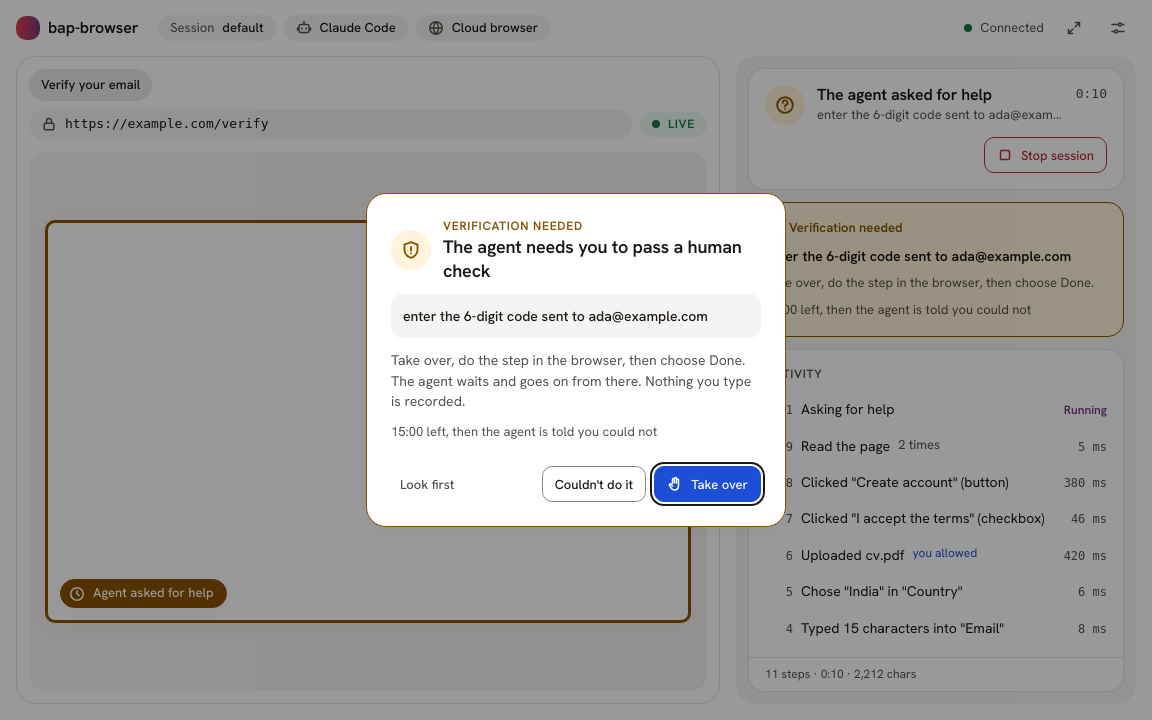
Scenario: controls › answering a request for help: take over, then Done
Click the button "Take over" at coordinates (708, 484), box [654, 466, 761, 502]
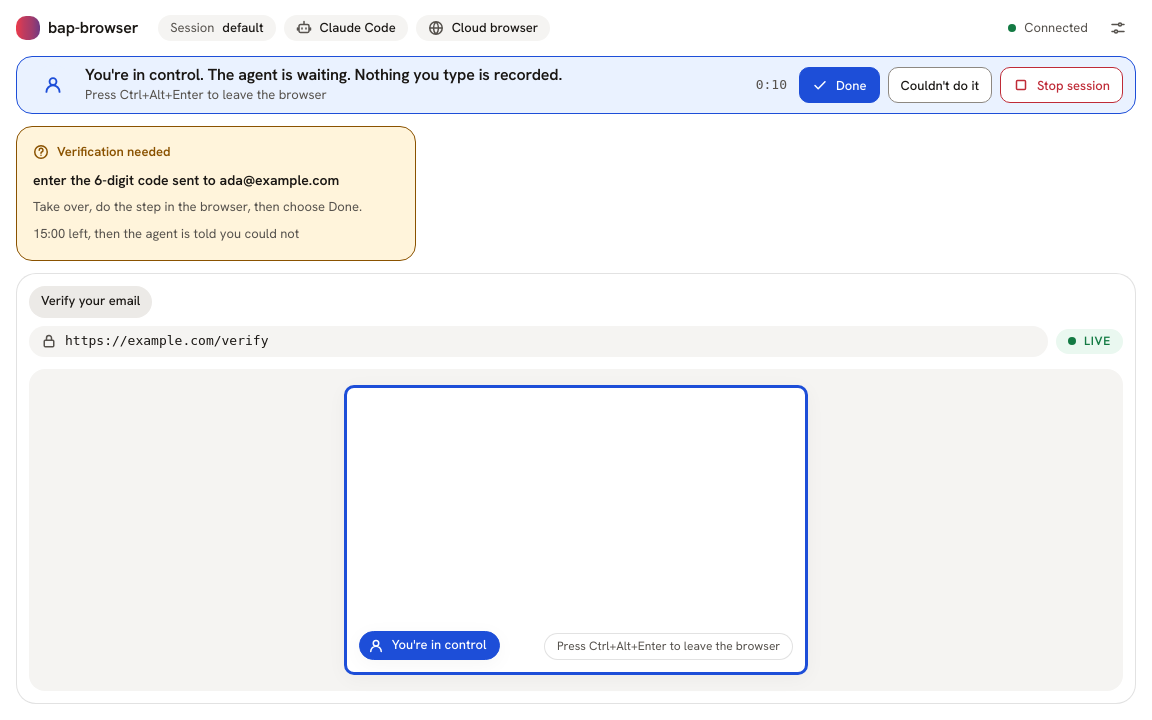
Click the button "Done" at coordinates (839, 85), box [799, 67, 880, 103]
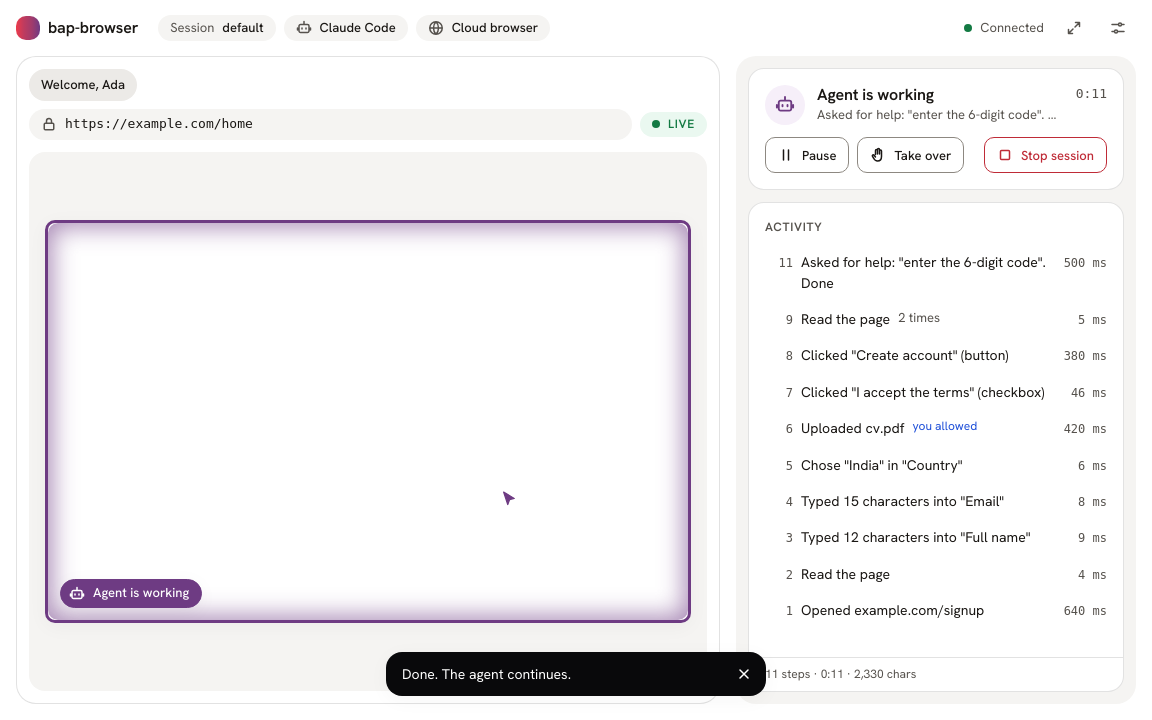
Check: the text "Done. The agent continues." is shown, box [402, 665, 571, 683]
